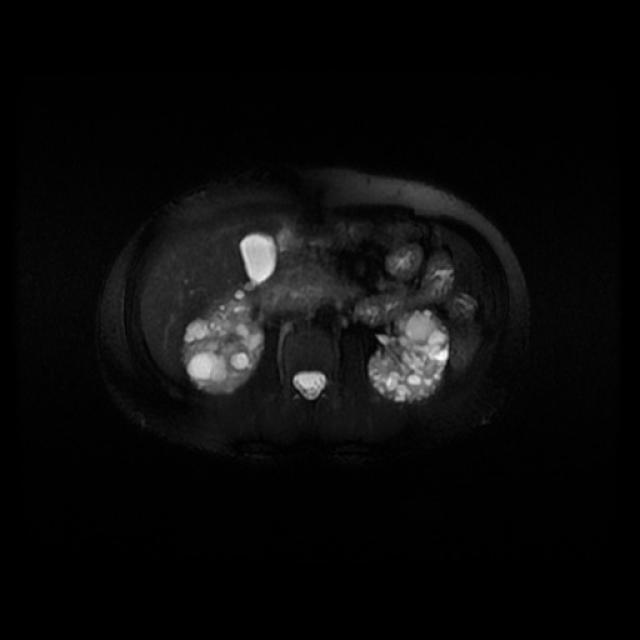sag: (185, 287, 264, 396)
sol: (370, 306, 450, 403)
